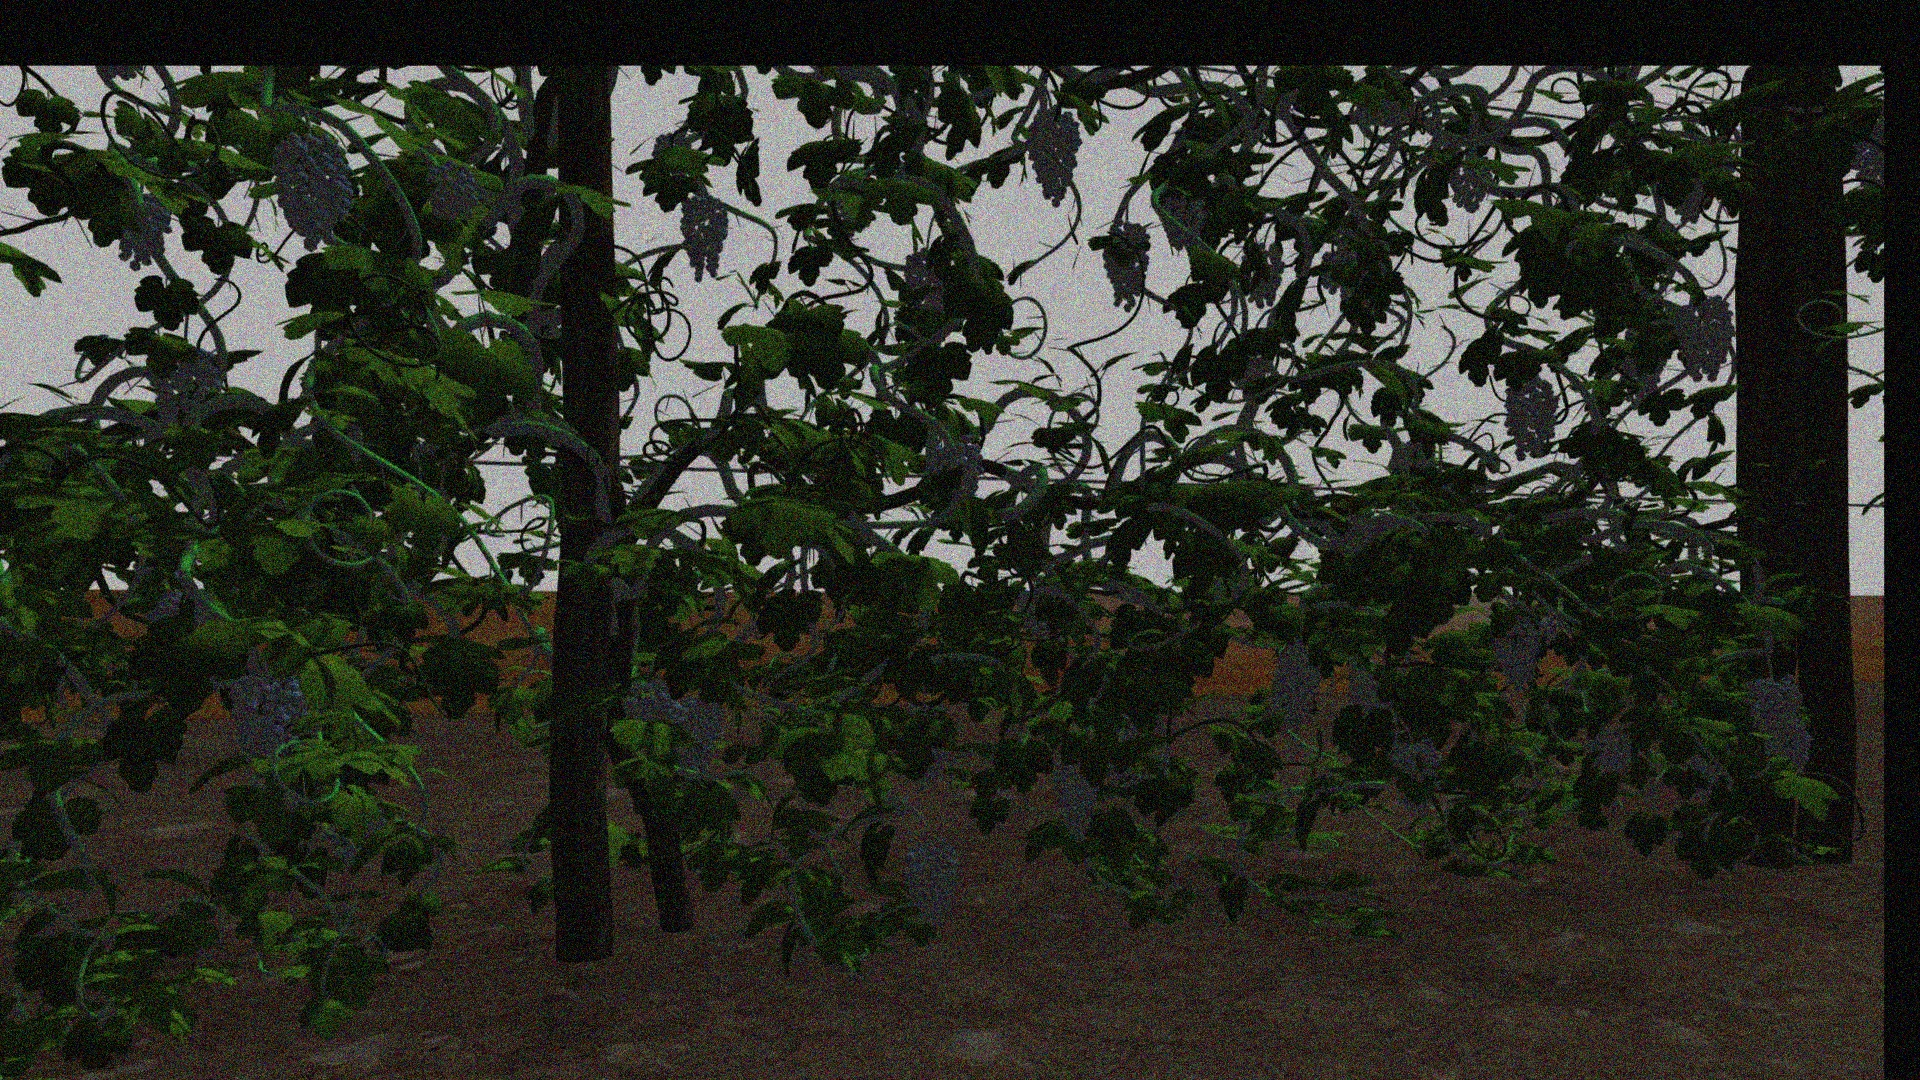grape: (273, 125, 353, 252), (227, 670, 307, 767), (145, 342, 219, 425), (1673, 293, 1737, 382), (1026, 108, 1084, 206), (899, 839, 961, 926), (1044, 750, 1101, 843), (1097, 222, 1153, 313), (1505, 373, 1557, 462), (676, 193, 728, 282), (1269, 642, 1323, 727), (115, 190, 171, 270), (1745, 673, 1803, 748), (669, 700, 723, 777), (930, 431, 986, 502), (1493, 618, 1543, 692), (425, 160, 477, 224), (1158, 193, 1207, 252), (1767, 724, 1815, 775), (621, 680, 673, 727), (1389, 738, 1441, 782), (1586, 735, 1633, 777)
